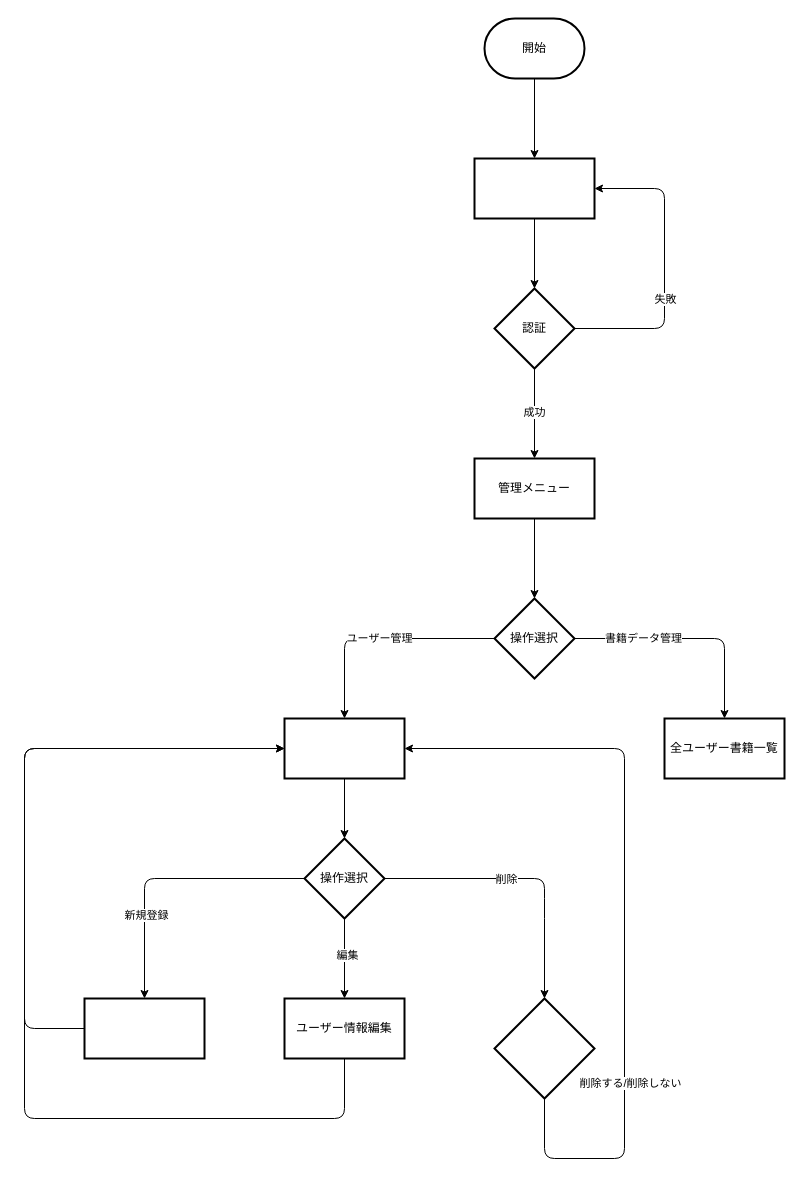
This 803x1184 diagram has some shape labels left out. The shapes that lost their labels are listed below. From the top down, each one's centre as x and y in pixels, then its label:
At point (534, 188): "ログイン画面".
At point (344, 748): "ユーザー一覧".
At point (144, 1028): "ユーザー 登録フォーム".
At point (544, 1048): "削除確認".
